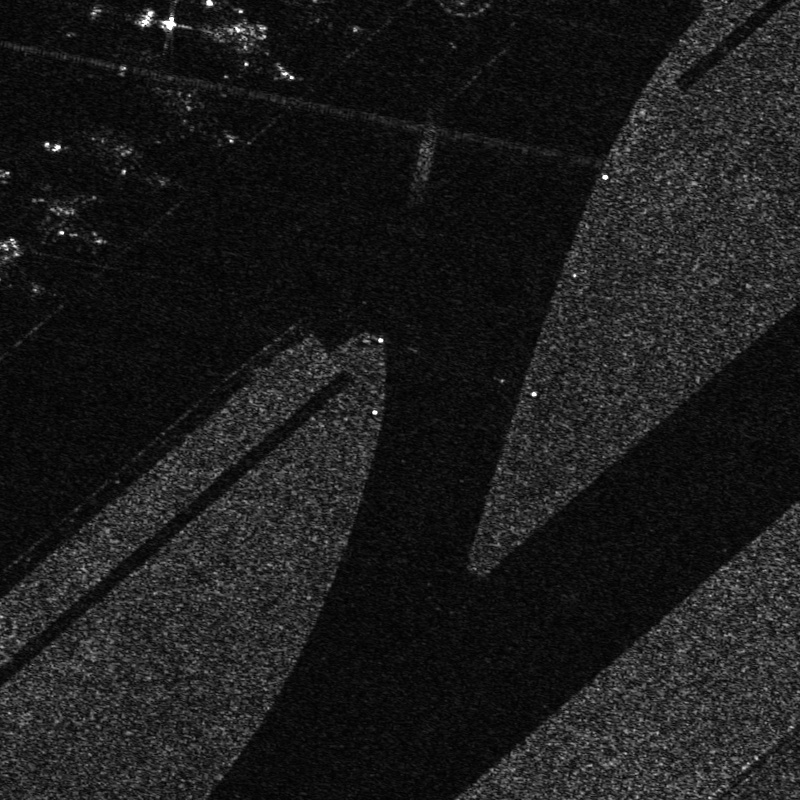Boeing737: (141, 69, 247, 155), (92, 122, 191, 204), (38, 184, 107, 254)
